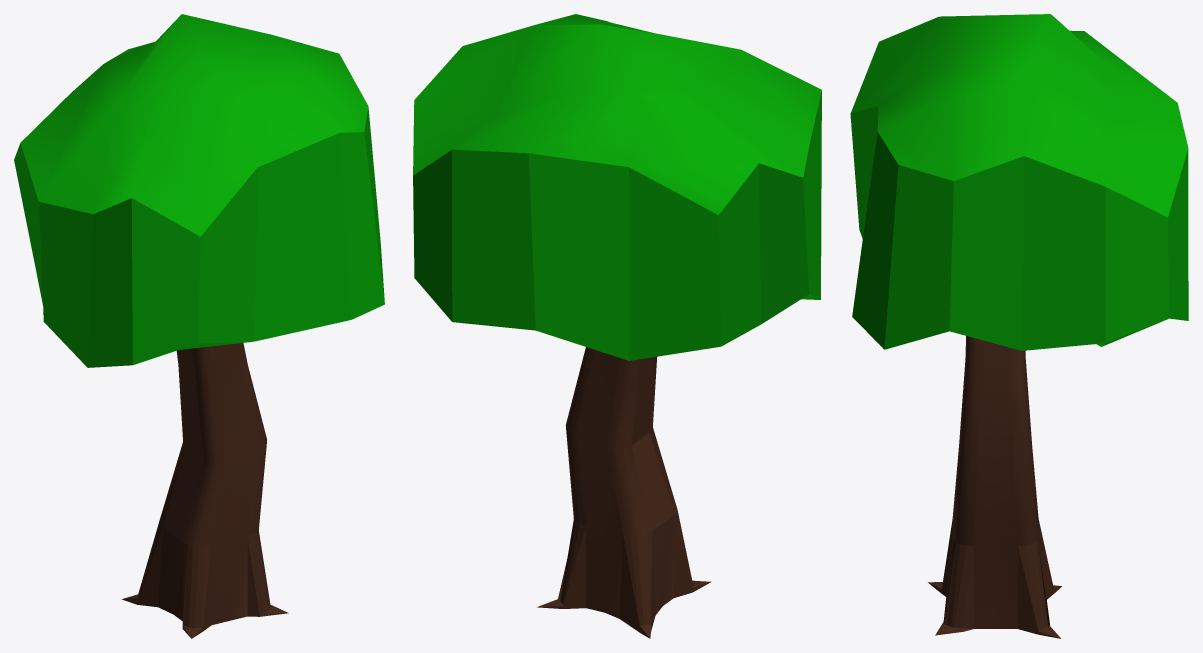
File: Tree.FBX
The picture shows the model from 3 angles, left to right: view 1: azimuth 30°, elevation 25°; view 2: azimuth 150°, elevation 25°; view 3: azimuth 270°, elevation 25°; orthographic projection. The views are drawn at different scales.
Parts seen in each view (by area): view 1: Plane001, Box001; view 2: Plane001, Box001; view 3: Plane001, Box001.
Part boxes in pixels (<box>): Plane001: <box>14,14,384,367</box>; Box001: <box>122,343,288,638</box>; Plane001: <box>413,14,821,360</box>; Box001: <box>537,347,711,638</box>; Plane001: <box>850,14,1188,350</box>; Box001: <box>928,336,1061,638</box>.
Bounding box in the file's own units: 98.77 × 169 × 85.94.
